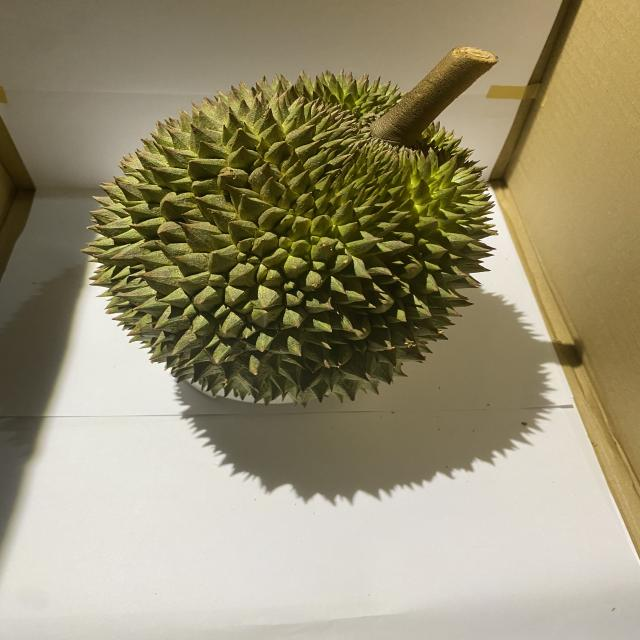immature: (77, 68, 503, 411)
